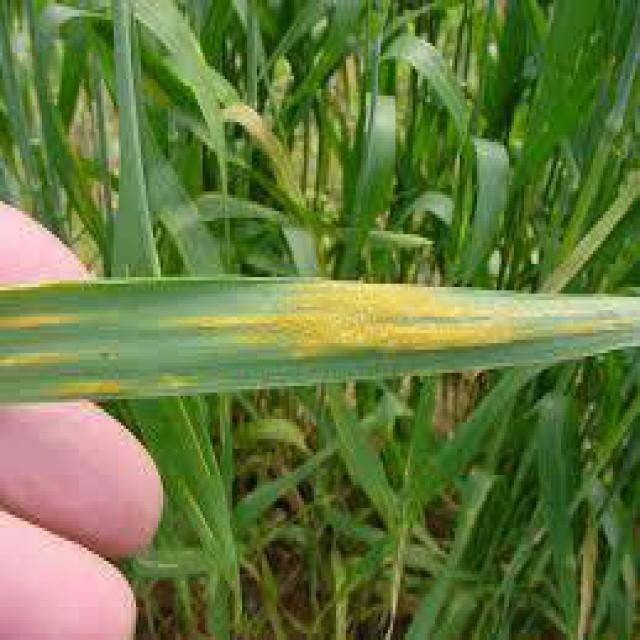Yellow Rust: (0, 273, 639, 405)
